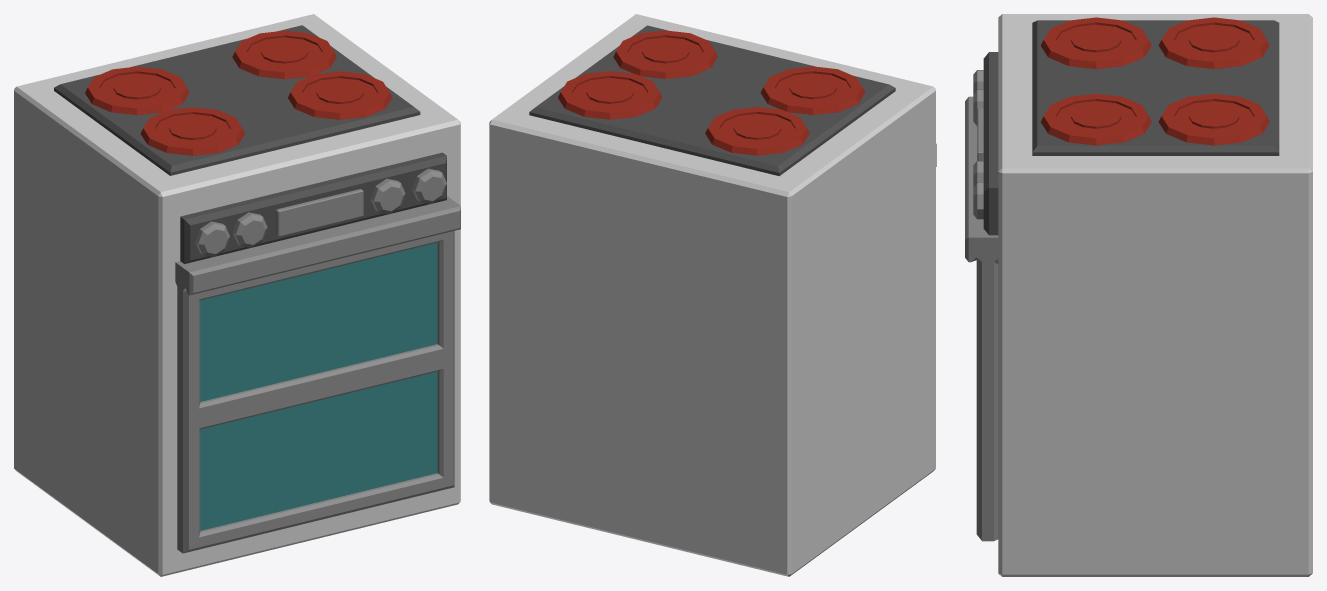
3 views of the same model, side by side, from view 1: azimuth 30°, elevation 25°; view 2: azimuth 150°, elevation 25°; view 3: azimuth 270°, elevation 25° (orthographic). The views are drawn at different scales.
Parts seen in each view (by area): view 1: Oven, Oven.001; view 2: Oven; view 3: Oven, Oven.001.
Part boxes in pixels (bbox=[...]): Oven: bbox=[14, 14, 460, 576]; Oven.001: bbox=[175, 196, 460, 553]; Oven: bbox=[489, 14, 935, 576]; Oven: bbox=[973, 14, 1312, 576]; Oven.001: bbox=[965, 96, 998, 541].
Size of the model in its own units: 3.6 by 4.52 by 3.37.
